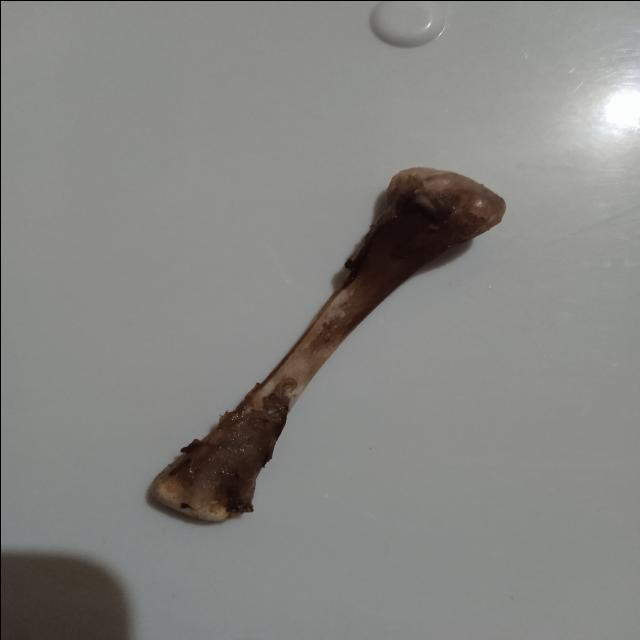bone: (140, 160, 514, 530)
